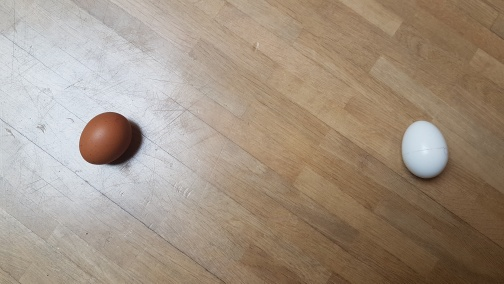egg: (399, 119, 451, 181), (77, 111, 135, 166)
